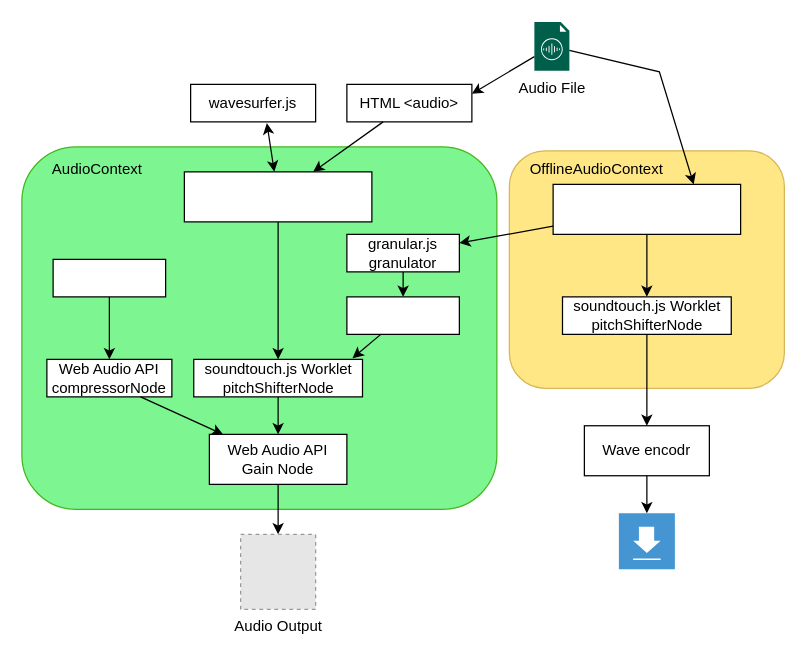
This 806x656 diagram has some shape labels left out. Grey dashed boxes stand in for pictures. The box of each missing label's shape, as (x1, y1, x2, y2) in pixels:
Download: (618, 513, 674, 569)
Offline bufferSourceNode (can crop buffers): (552, 183, 741, 234)
tone.js Synth: (52, 258, 166, 297)
Web Audio Api mediaElementSourceNode: (183, 171, 372, 222)
Web Audio Api reverbNode: (346, 296, 459, 334)
